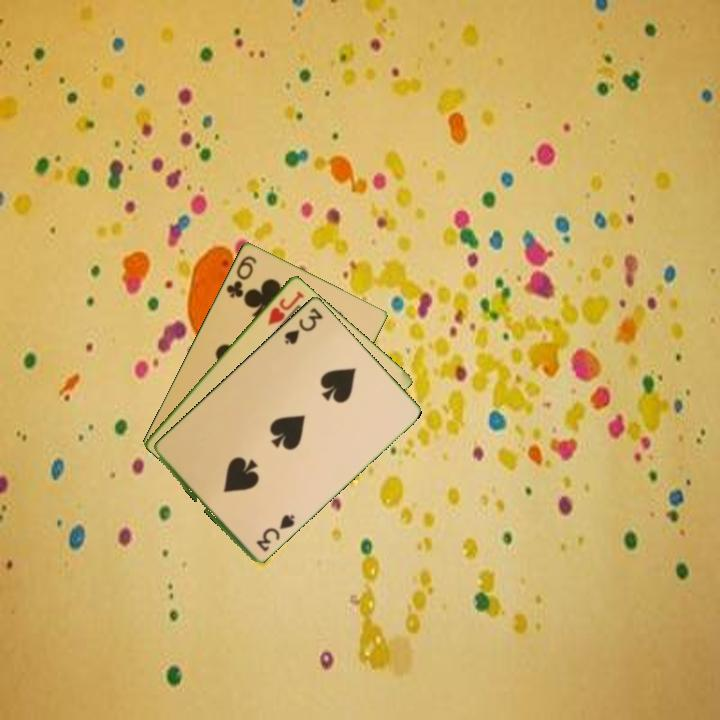3s: (252, 511, 298, 554), (281, 304, 326, 347)
6c: (222, 252, 260, 301)
Jh: (264, 287, 307, 328)
